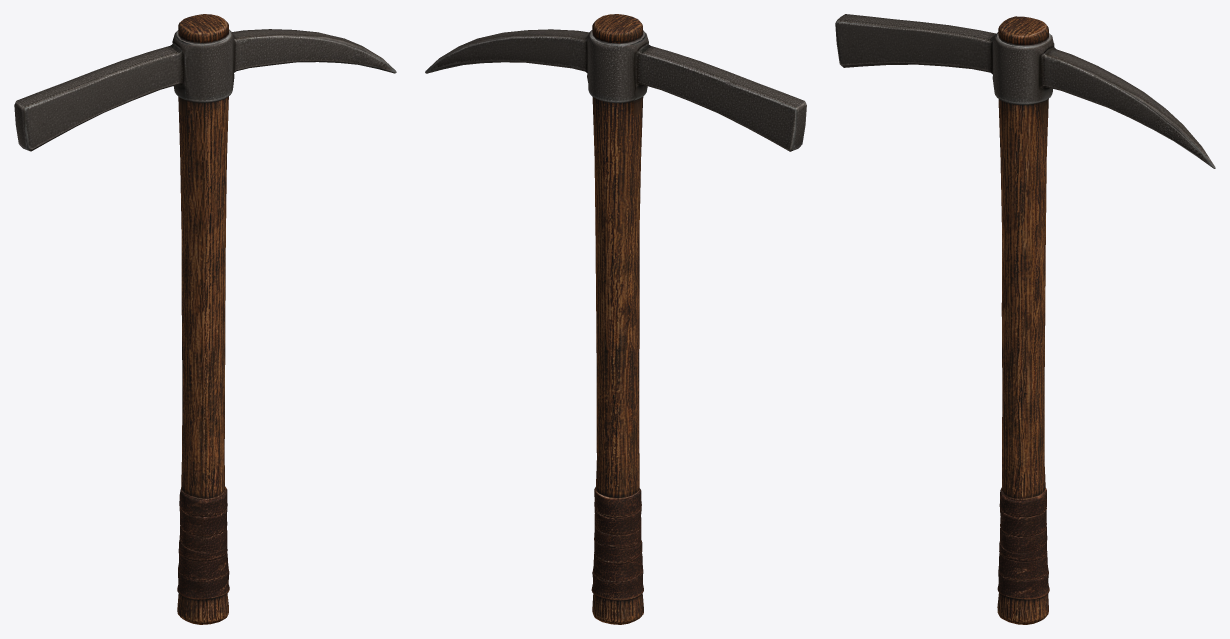
Rendered from hammer 3d model (2).glb.
3 renders of one model, left to right at view 1: azimuth 30°, elevation 25°; view 2: azimuth 150°, elevation 25°; view 3: azimuth 330°, elevation 25°, orthographic.
Visible parts, largest first — view 1: tripo_5cbb0f89_736a_425e_b289_a7ca45f2ebff; view 2: tripo_5cbb0f89_736a_425e_b289_a7ca45f2ebff; view 3: tripo_5cbb0f89_736a_425e_b289_a7ca45f2ebff.
Boxes of the visible parts, left/top/right/bottom form: tripo_5cbb0f89_736a_425e_b289_a7ca45f2ebff: left=14, top=14, right=396, bottom=624; tripo_5cbb0f89_736a_425e_b289_a7ca45f2ebff: left=425, top=14, right=806, bottom=624; tripo_5cbb0f89_736a_425e_b289_a7ca45f2ebff: left=835, top=14, right=1215, bottom=624.
Bounding box in the file's own units: 0.6646 × 0.9995 × 0.0894.
Materials: 1 (1 with a texture image).
